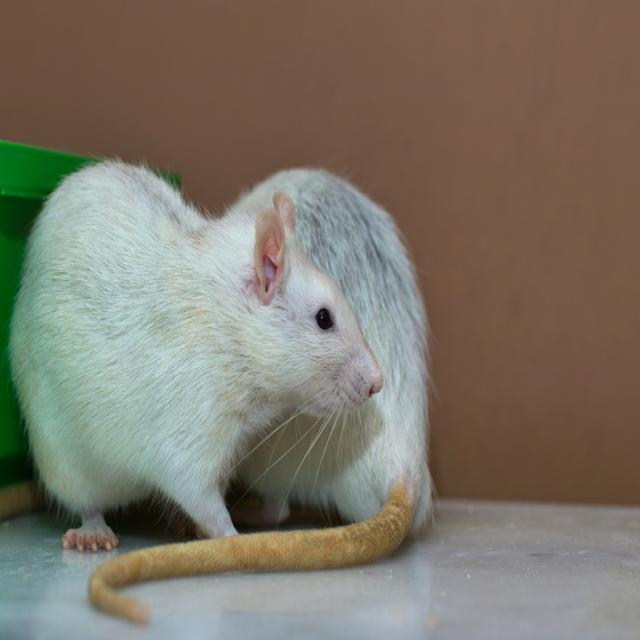rat: (87, 163, 433, 627), (8, 155, 385, 555)
